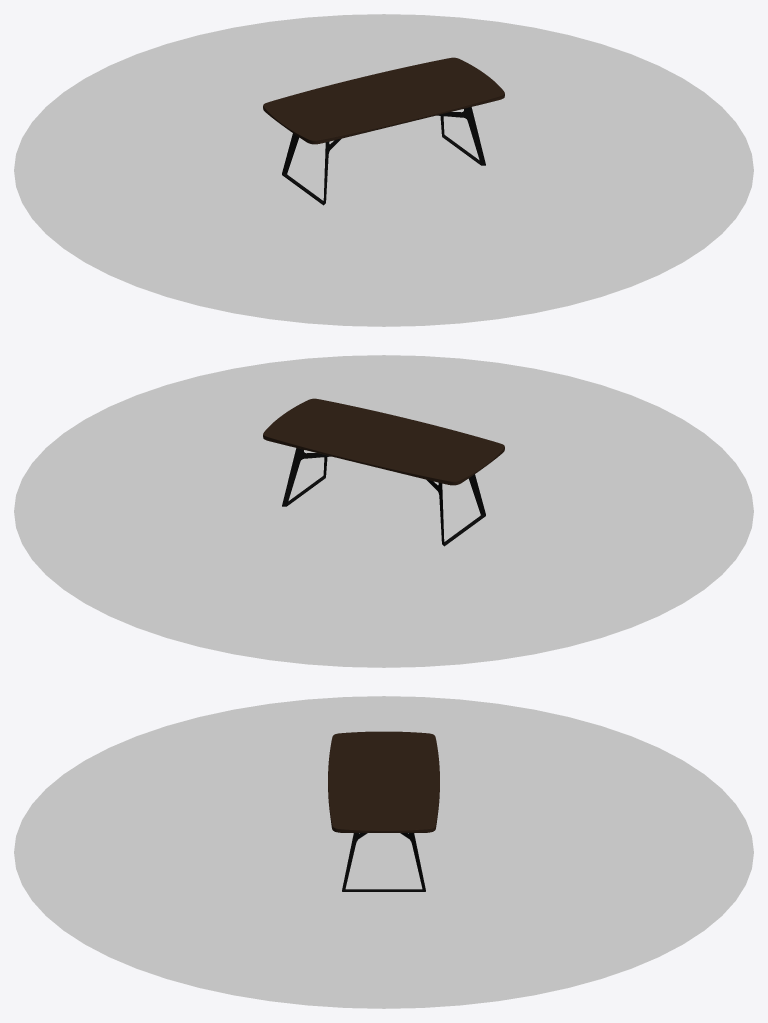
The model's file is Clipper dining table by Poliform.fbx.
The picture shows the model from 3 angles, top to bottom: view 1: azimuth 30°, elevation 25°; view 2: azimuth 150°, elevation 25°; view 3: azimuth 270°, elevation 25°; orthographic projection.
Visible parts, largest first — view 1: Floor, Box012, Line022; view 2: Floor, Box012, Line022; view 3: Floor, Box012, Line022.
Part boxes in pixels (x1=…): Floor: x1=14, y1=14, x2=753, y2=326; Box012: x1=263, y1=57, x2=504, y2=144; Line022: x1=282, y1=107, x2=485, y2=205; Floor: x1=14, y1=355, x2=753, y2=667; Box012: x1=263, y1=398, x2=504, y2=485; Line022: x1=282, y1=448, x2=485, y2=546; Floor: x1=14, y1=696, x2=753, y2=1008; Box012: x1=328, y1=731, x2=439, y2=832; Line022: x1=342, y1=833, x2=425, y2=891.
Bounding box in the file's own units: 6903 × 735 × 6903.
